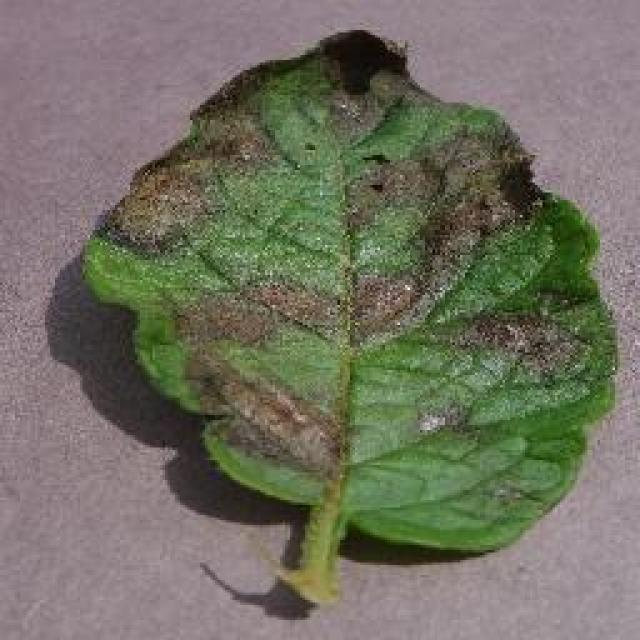late_blight: (75, 25, 623, 600)
